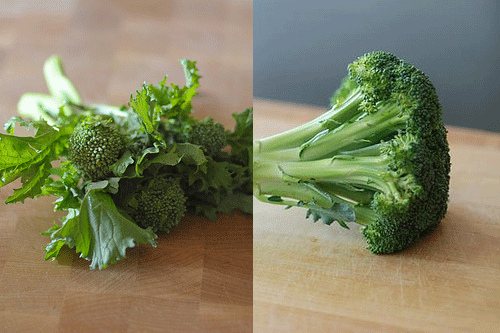broccoli: (3, 57, 250, 275), (252, 48, 450, 257)
